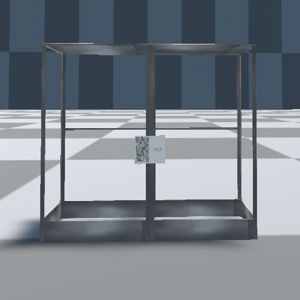Rack: (39, 39, 257, 246)
